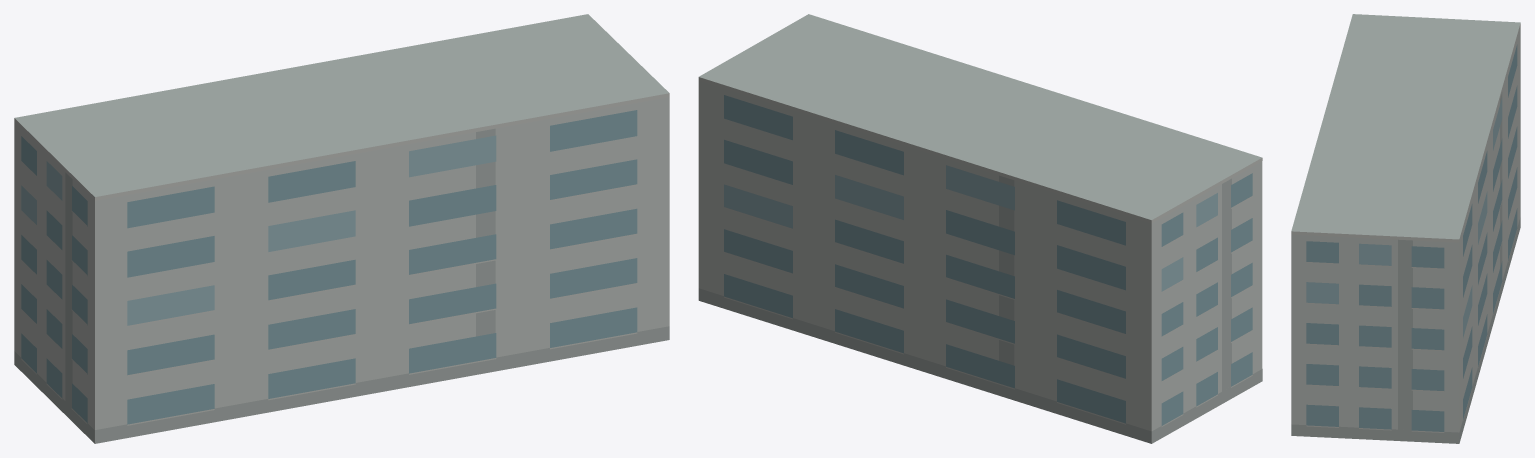
File: survey-upis-32878960.glb
3 renders of one model, left to right at view 1: azimuth 30°, elevation 25°; view 2: azimuth 150°, elevation 25°; view 3: azimuth 270°, elevation 25°, orthographic. The views are drawn at different scales.
Visible parts, largest first — view 1: survey-upis-32878960.tmp; view 2: survey-upis-32878960.tmp; view 3: survey-upis-32878960.tmp.
Part boxes in pixels (bbox=[...]): survey-upis-32878960.tmp: bbox=[14, 14, 669, 443]; survey-upis-32878960.tmp: bbox=[698, 14, 1262, 443]; survey-upis-32878960.tmp: bbox=[1291, 14, 1520, 443].
Bounding box in the file's own units: 36.07 × 15.25 × 15.52.
